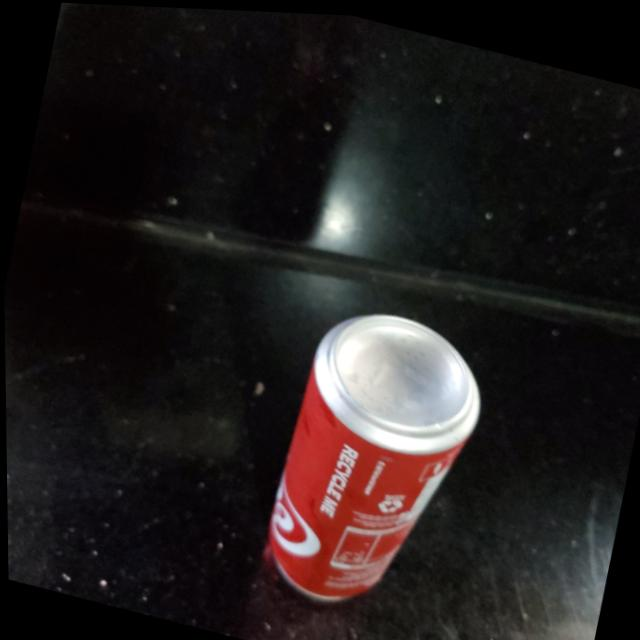coke: (258, 292, 502, 627)
